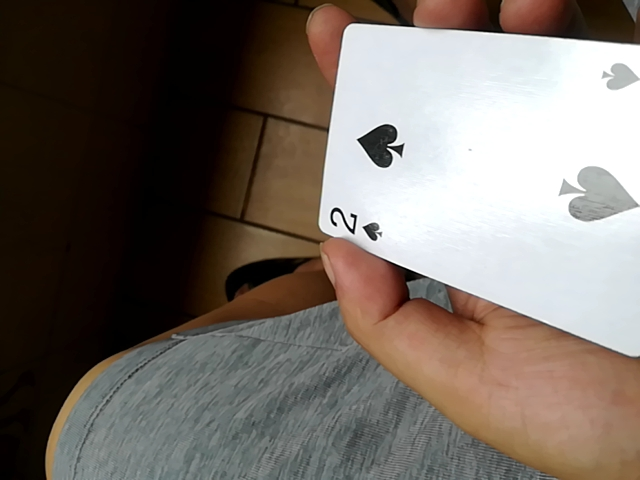ht 2: (313, 27, 640, 346)
